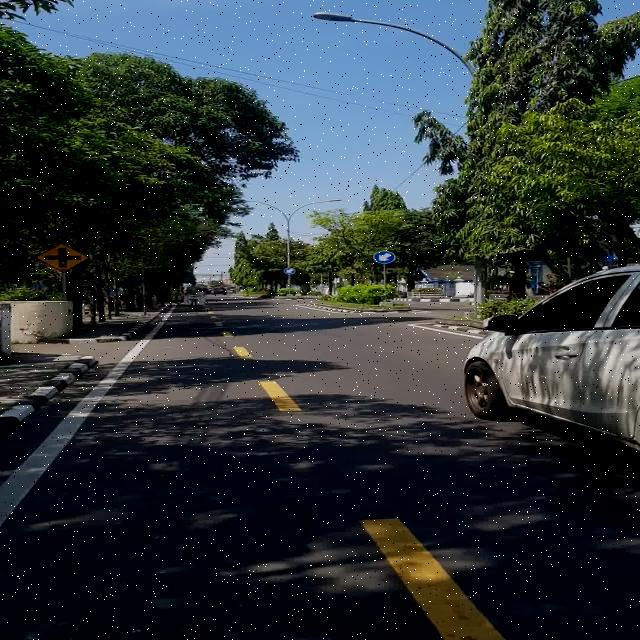Lajur Kiri: (372, 251, 396, 264)
